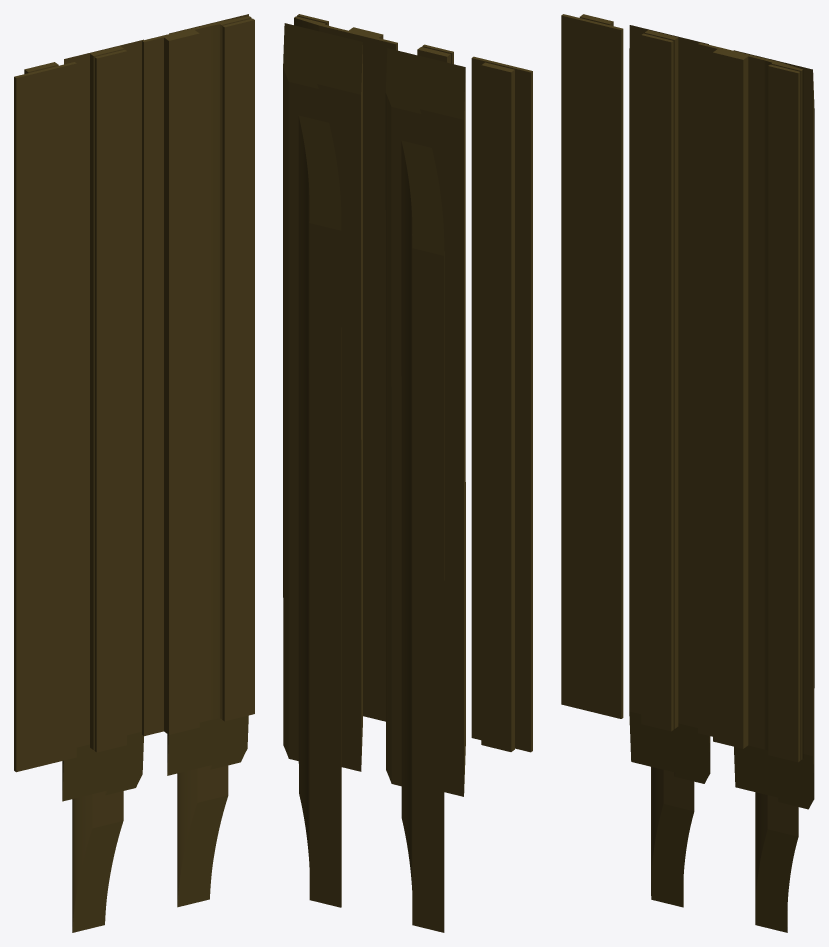
The picture shows the model from 3 angles, left to right: view 1: azimuth 30°, elevation 25°; view 2: azimuth 150°, elevation 25°; view 3: azimuth 330°, elevation 25°; orthographic projection. The views are drawn at different scales.
Parts seen in each view (by area): view 1: Text001; view 2: Text001; view 3: Text001.
Boxes of the visible parts, <box> form: Text001: <box>14,14,254,932</box>; Text001: <box>283,14,532,932</box>; Text001: <box>561,14,814,932</box>.
Size of the model in its own units: 5.9 by 0.7288 by 20.54.
